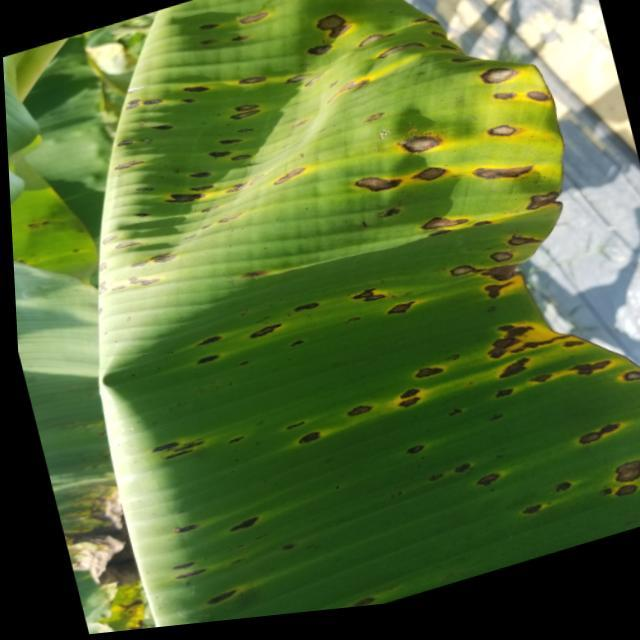Early_rust: (68, 0, 640, 634)
